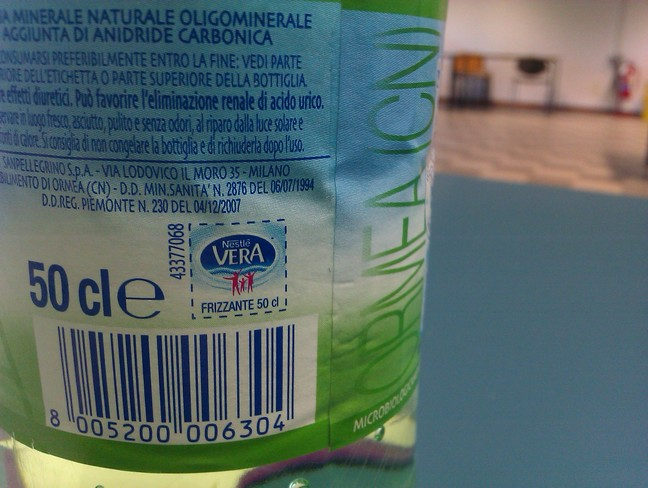barcode: (32, 323, 317, 446)
